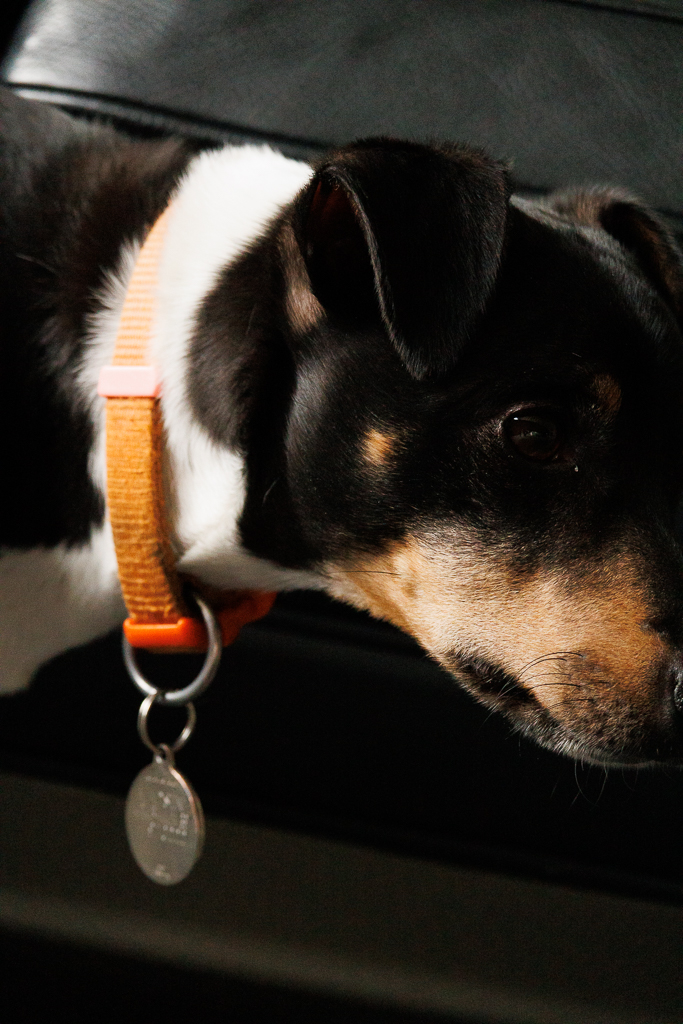Dog: (0, 68, 683, 802)
